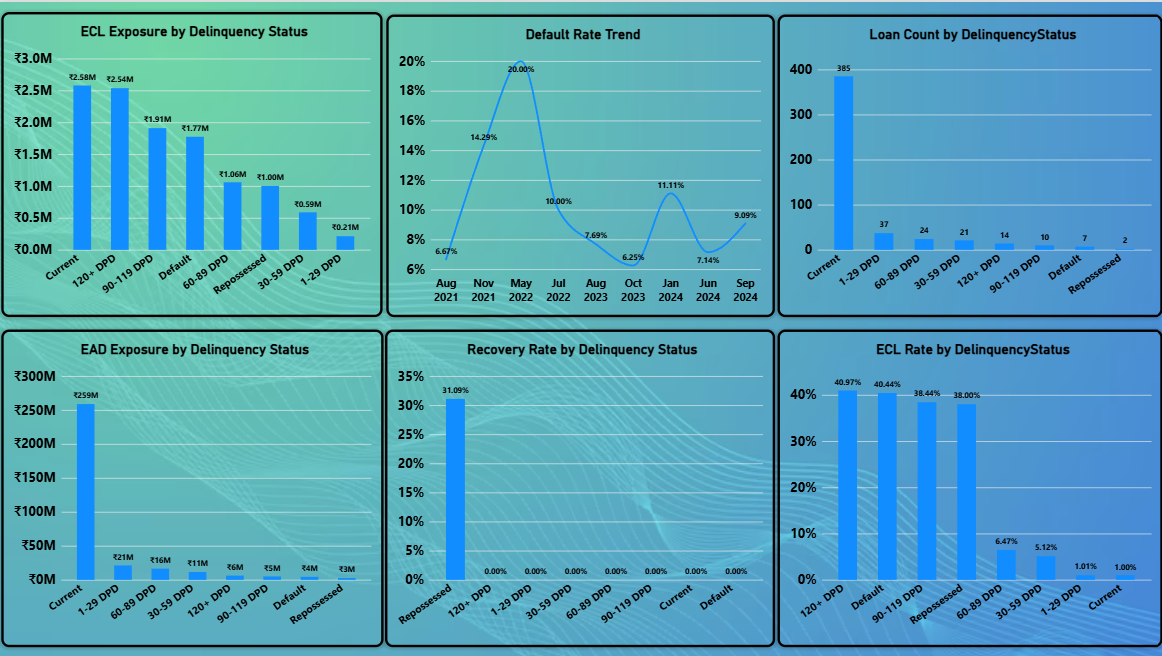

The dashboard page shown, as its layout file describes it:
{"tool":"powerbi","page":{"name":"Credit Risk Analysis","canvas":[1920,1080],"ordinal":1},"visuals":[{"type":"clusteredColumnChart","title":"ECL Exposure by Delinquency Status","fields":{"Category":["Loan.DelinquencyStatus"],"Y":["Measures (2).Total ECL"]},"box":[2.1,16.5,627.8,502.2],"z":0},{"type":"lineChart","title":"Default Rate Trend","fields":{"Y":["Measures (2).Default Rate"],"Category":["Calendar.Month Year"]},"box":[636,20.6,640.1,498.1],"z":1000},{"type":"clusteredColumnChart","title":"EAD Exposure by Delinquency Status","fields":{"Category":["Loan.DelinquencyStatus"],"Y":["Measures (2).Total EAD"]},"box":[2.1,539.3,629.8,522.8],"z":2000},{"type":"clusteredColumnChart","title":"Recovery Rate by Delinquency Status","fields":{"Category":["Loan.DelinquencyStatus"],"Y":["Measures (2).Recovery Rate"]},"box":[634,539.3,642.2,522.8],"z":3000},{"type":"clusteredColumnChart","fields":{"Category":["Loan.DelinquencyStatus"],"Y":["Measures (2).ECL Rate"]},"box":[1280.3,539.3,636,522.8],"z":4000},{"type":"clusteredColumnChart","fields":{"Category":["Loan.DelinquencyStatus"],"Y":["Measures (2).Loan Count"]},"box":[1280.3,20.6,636,498.1],"z":5000}]}

Visuals, with their boxes in screenshot pixels (x1, y1, x2, y2), scaled from the page's 1920x1080 canvas onto the 1162x656 screenshot:
"ECL Exposure by Delinquency Status" clusteredColumnChart: (1, 10, 381, 315)
"Default Rate Trend" lineChart: (385, 13, 772, 315)
"EAD Exposure by Delinquency Status" clusteredColumnChart: (1, 328, 382, 645)
"Recovery Rate by Delinquency Status" clusteredColumnChart: (384, 328, 772, 645)
clusteredColumnChart - Loan.DelinquencyStatus x Measures (2).ECL Rate: (775, 328, 1160, 645)
clusteredColumnChart - Loan.DelinquencyStatus x Measures (2).Loan Count: (775, 13, 1160, 315)
